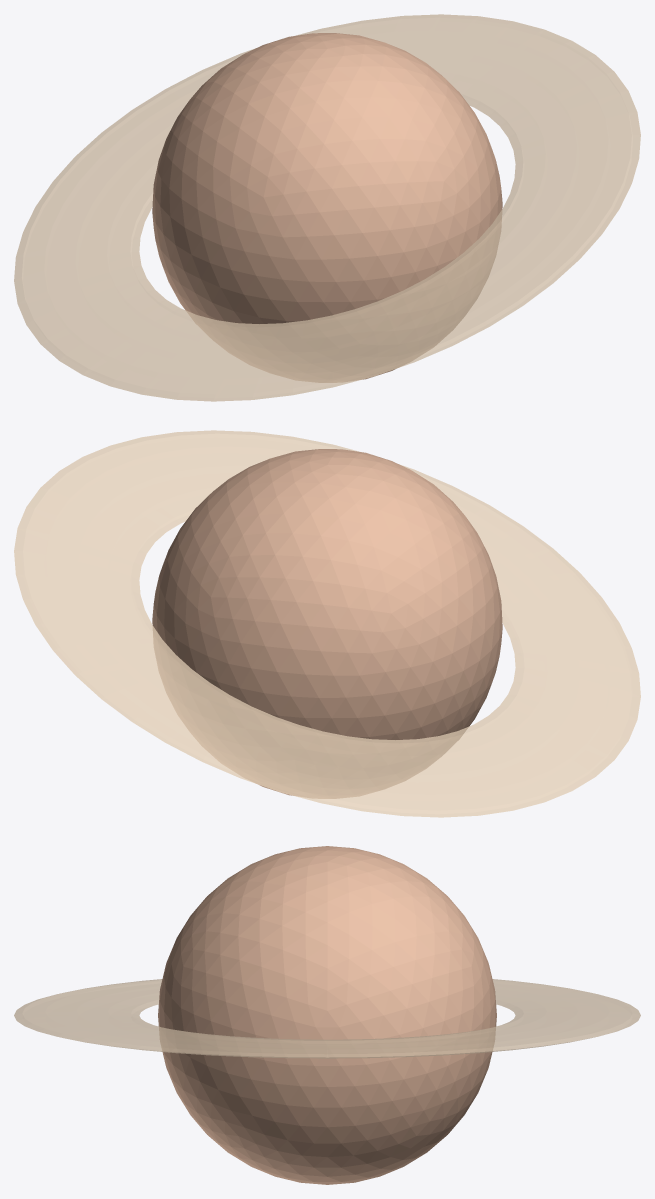
Rendered from planet2.fbx.
3 renders of one model, top to bottom at view 1: azimuth 30°, elevation 25°; view 2: azimuth 150°, elevation 25°; view 3: azimuth 270°, elevation 25°, orthographic. The views are drawn at different scales.
Visible parts, largest first — view 1: Torus, Icosphere; view 2: Torus, Icosphere; view 3: Icosphere, Torus.
Part boxes in pixels (x1,y1,x2,y2): Torus: [14, 14, 640, 401]; Icosphere: [152, 33, 502, 382]; Torus: [14, 430, 640, 817]; Icosphere: [152, 449, 502, 798]; Icosphere: [158, 846, 496, 1184]; Torus: [14, 979, 640, 1058].
Size of the model in its own units: 1202 by 681 by 1259.
